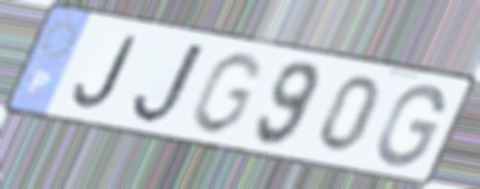0: (314, 74, 388, 156)
9: (253, 60, 323, 149)
G: (186, 50, 265, 137), (373, 82, 448, 170)
J: (129, 39, 210, 126), (71, 33, 141, 112)
